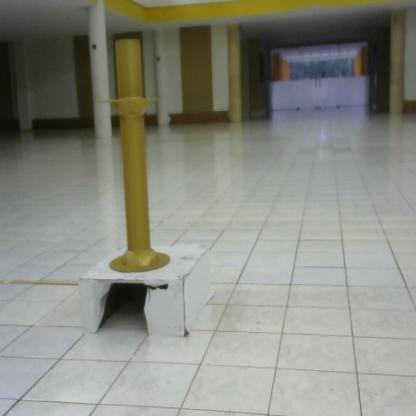pole: (95, 28, 183, 280)
